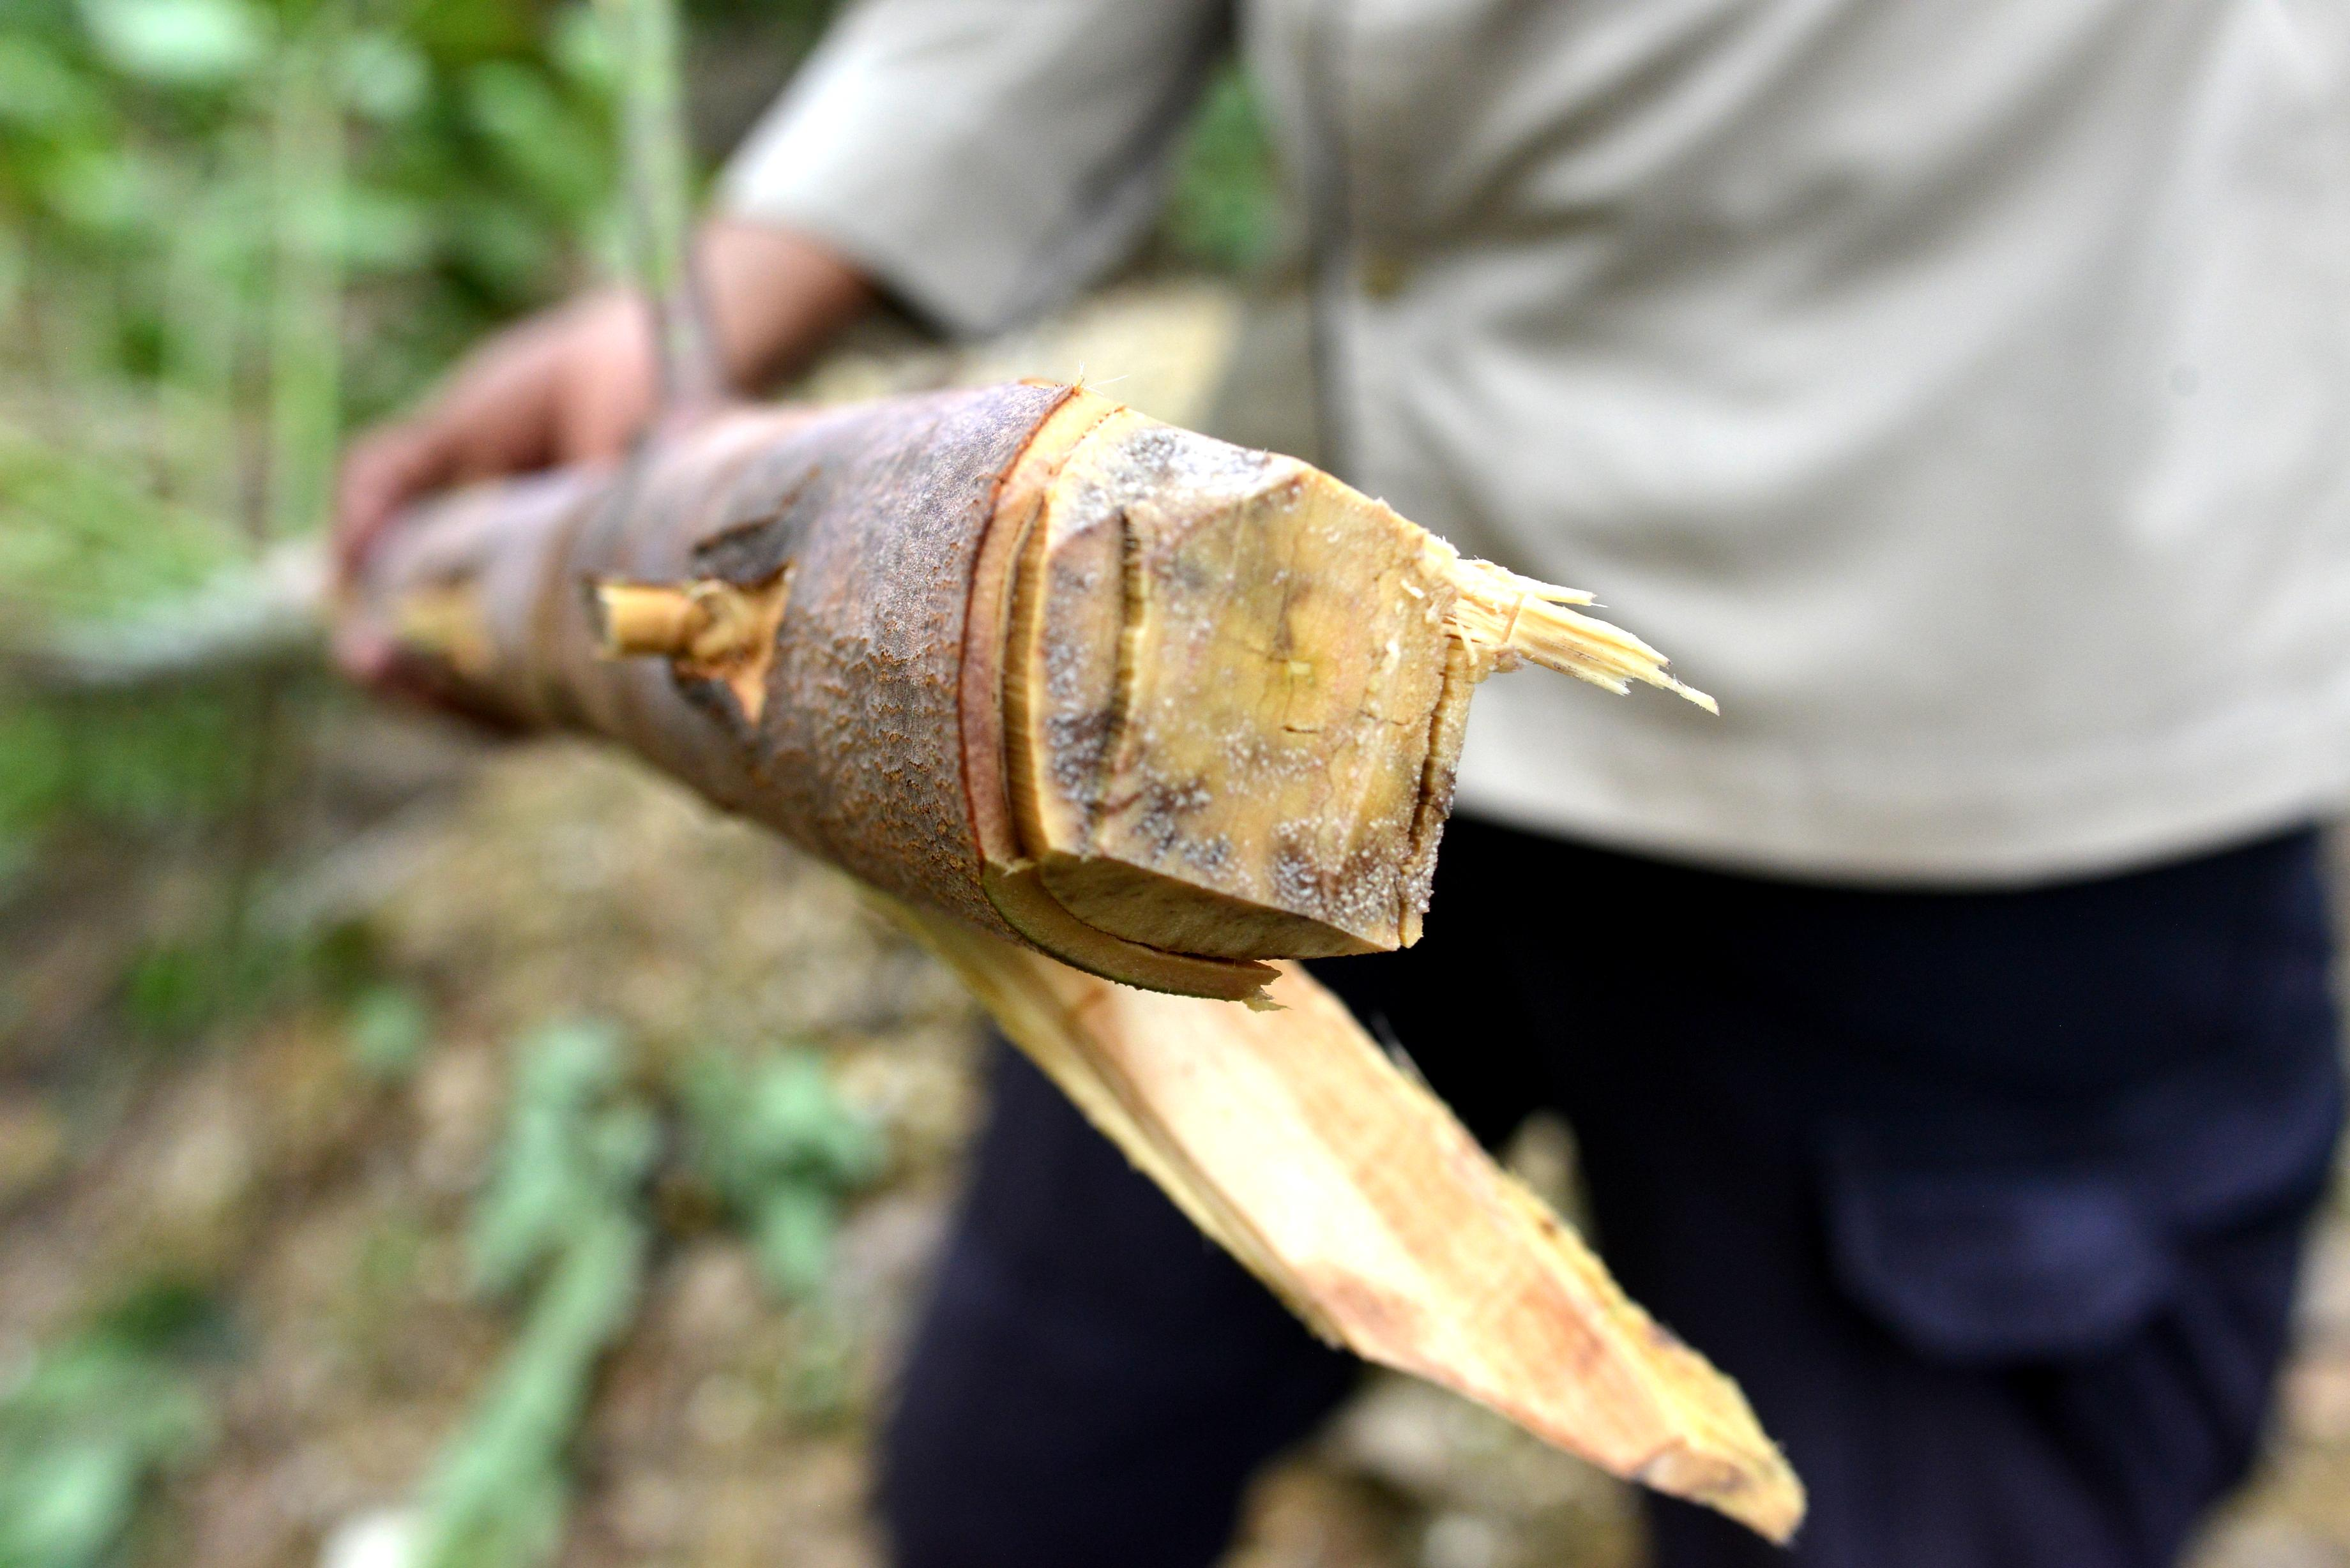Ralstonia: (1038, 565, 1444, 954), (1053, 423, 1297, 513)
